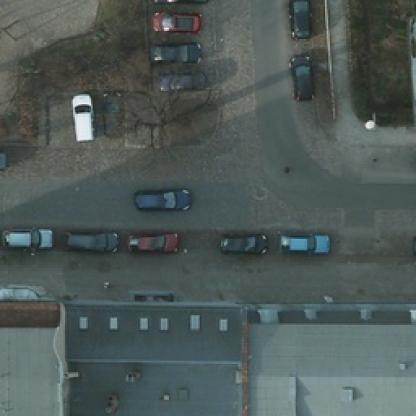car: (130, 187, 194, 213), (274, 231, 334, 257), (284, 51, 314, 102), (68, 92, 96, 144), (3, 223, 52, 249), (100, 92, 124, 144), (64, 229, 116, 250), (149, 40, 195, 61), (218, 232, 265, 252), (127, 230, 174, 250), (287, 0, 311, 38), (148, 12, 198, 28), (153, 69, 203, 84), (0, 146, 7, 171)
